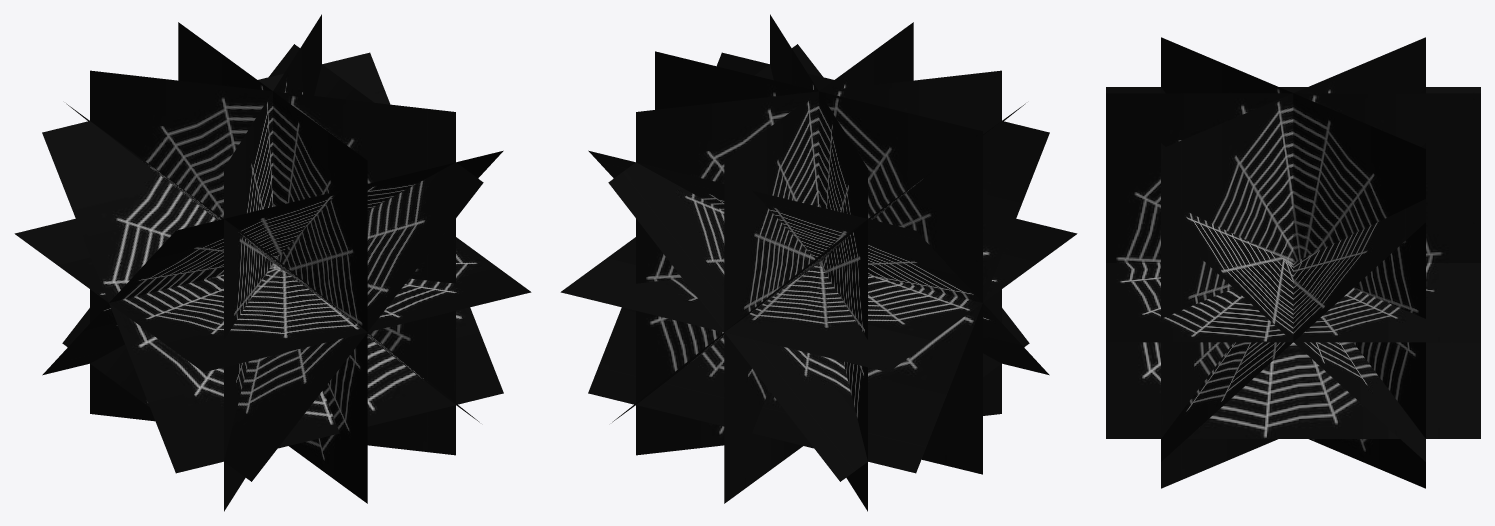
Rendered from Teia.fbx.
3 views of the same model, side by side, from view 1: azimuth 30°, elevation 25°; view 2: azimuth 150°, elevation 25°; view 3: azimuth 270°, elevation 25° (orthographic).
Parts seen in each view (by area): view 1: Plane; view 2: Plane; view 3: Plane.
Part boxes in pixels (x1,y1,x2,y2): Plane: (14,14,531,511); Plane: (560,14,1077,511); Plane: (1106,37,1480,488).
Bounding box in the file's own units: 200 × 200 × 200.
